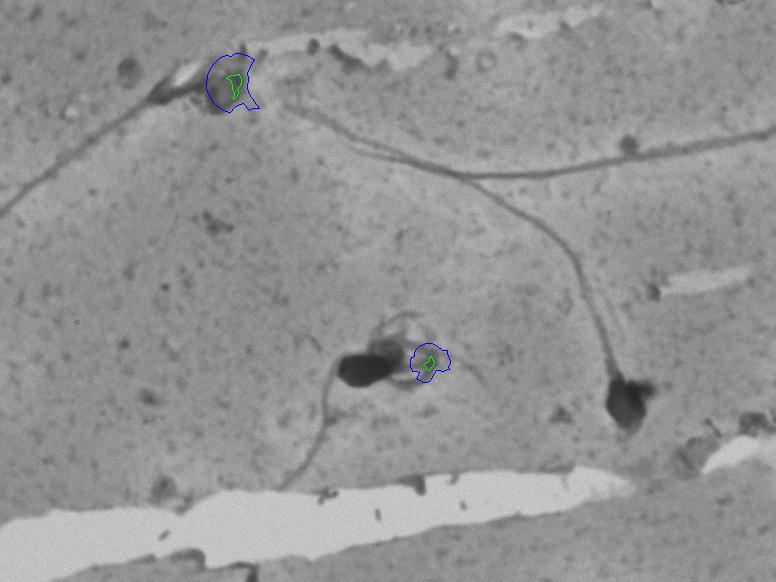Abnormal: (501, 214, 684, 439), (248, 308, 400, 490)
